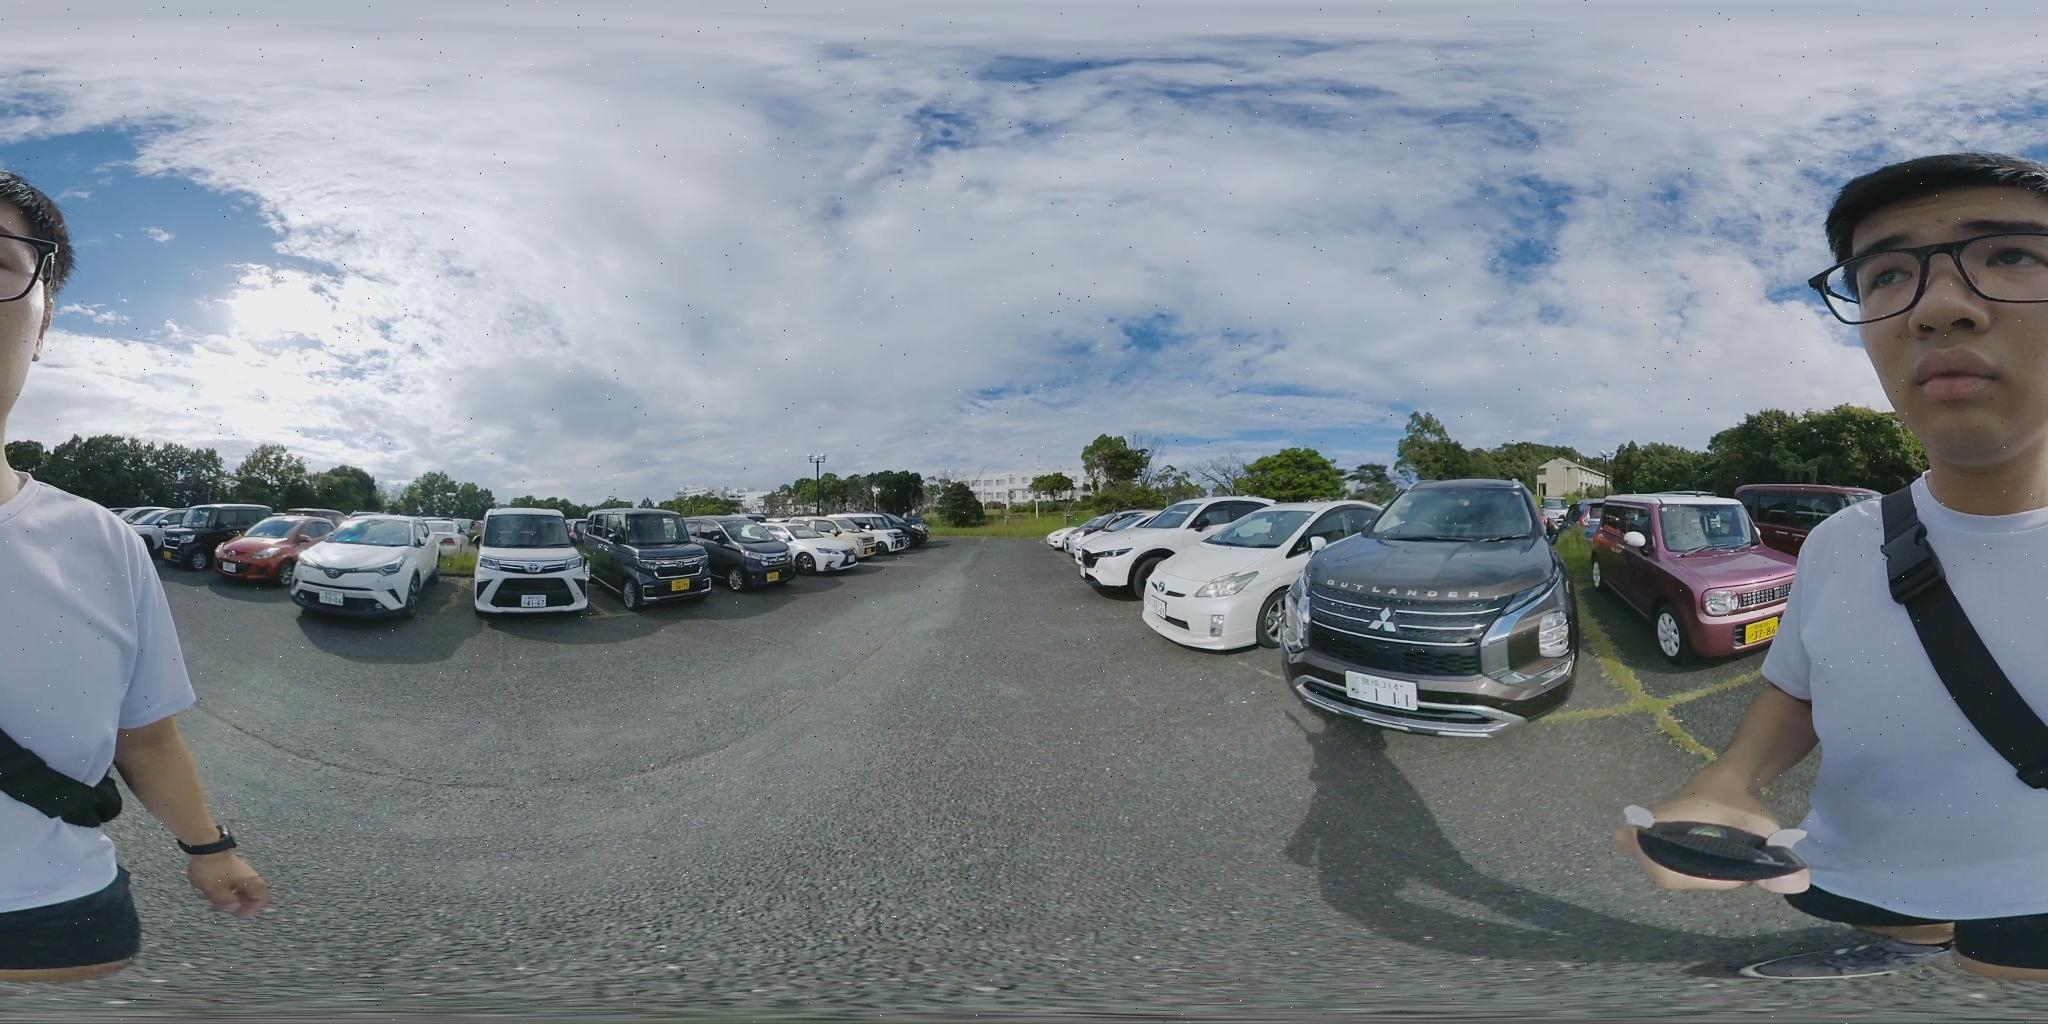car: (1281, 479, 1579, 733), (1142, 503, 1392, 654), (1061, 499, 1293, 596), (293, 517, 453, 619), (589, 509, 707, 613), (478, 509, 584, 619), (1733, 482, 1881, 552), (208, 513, 342, 583), (138, 503, 276, 567), (679, 515, 792, 589), (1049, 508, 1155, 550), (831, 516, 923, 554)
